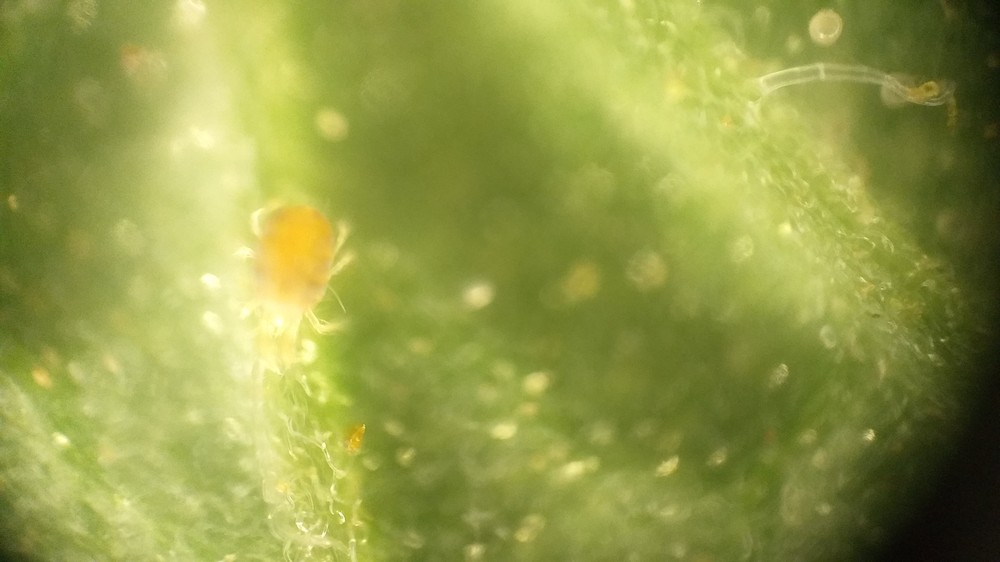Aracnido Rojo: (209, 188, 372, 395)
